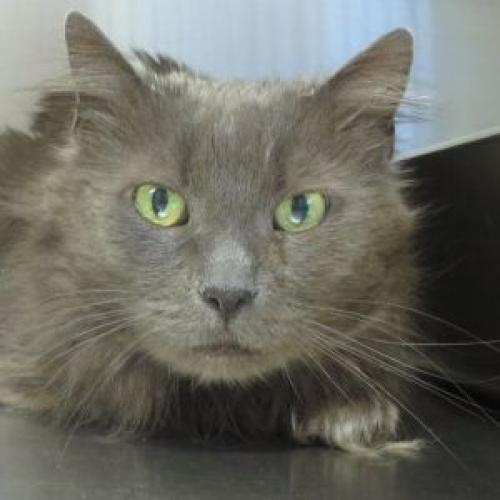rblue: (57, 1, 423, 390)
